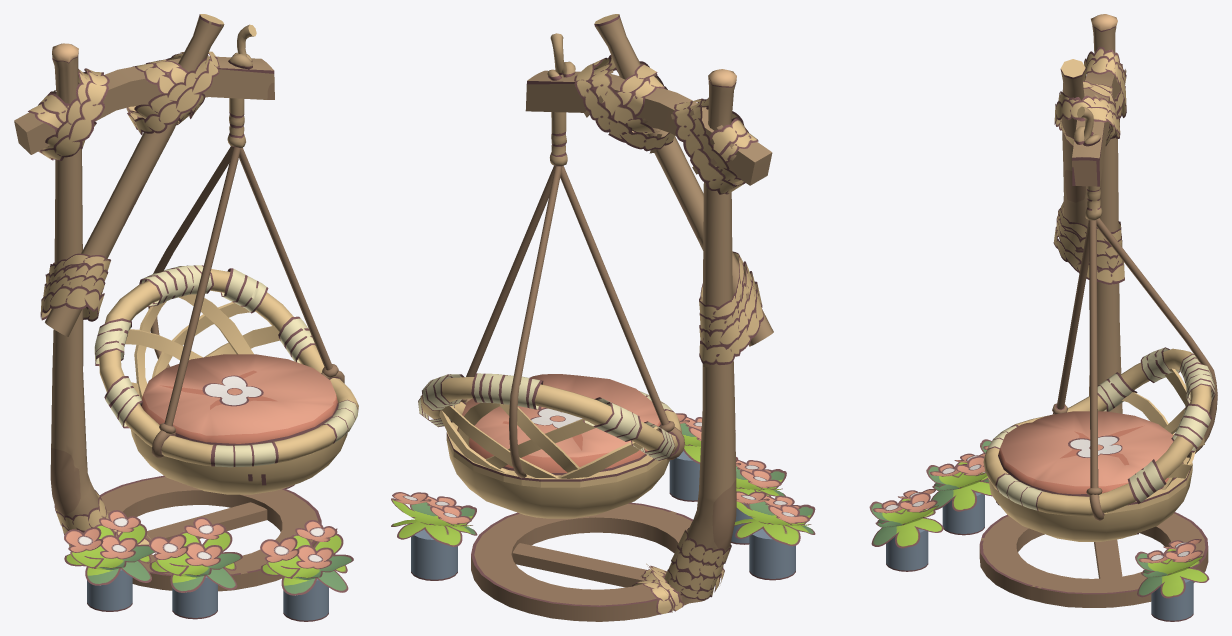
File: Mesh_Home_B_Idyll_6_SM.fbx
3 views of the same model, side by side, from view 1: azimuth 30°, elevation 25°; view 2: azimuth 150°, elevation 25°; view 3: azimuth 270°, elevation 25° (orthographic). The views are drawn at different scales.
Parts seen in each view (by area): view 1: Mesh_Home_B_Idyll_6; view 2: Mesh_Home_B_Idyll_6; view 3: Mesh_Home_B_Idyll_6.
Part boxes in pixels (box(x1,y1,x2,y2)): Mesh_Home_B_Idyll_6: box(14, 14, 358, 621); Mesh_Home_B_Idyll_6: box(391, 14, 815, 621); Mesh_Home_B_Idyll_6: box(869, 14, 1217, 621).
Size of the model in its own units: 91.49 by 141 by 91.35.
